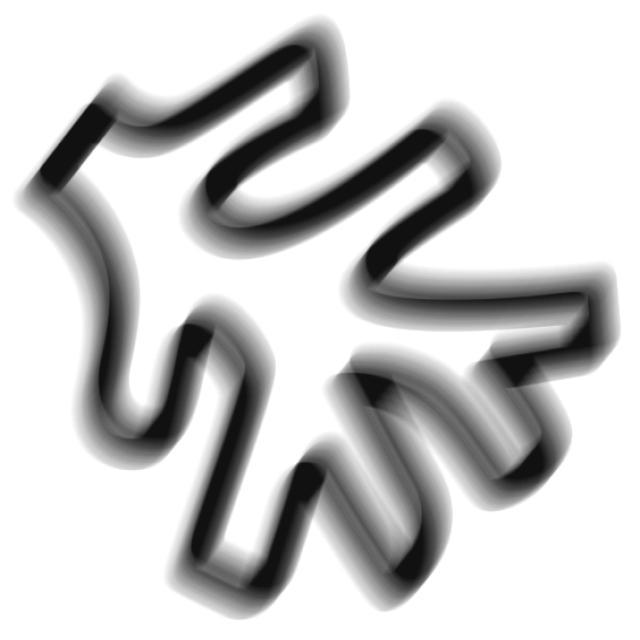coral: (5, 9, 632, 627)
